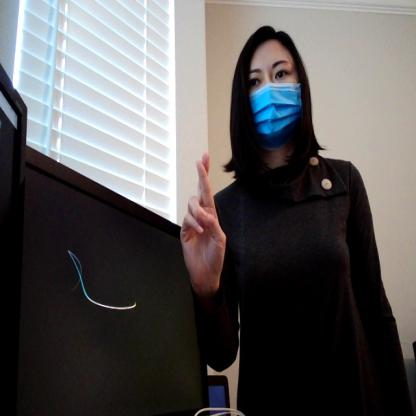right: (175, 146, 232, 299)
